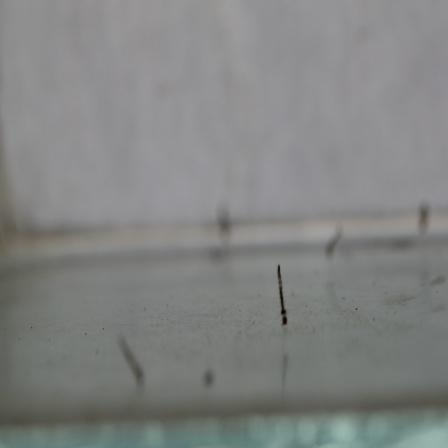Jentik-Nyamuk: (273, 261, 293, 328)
